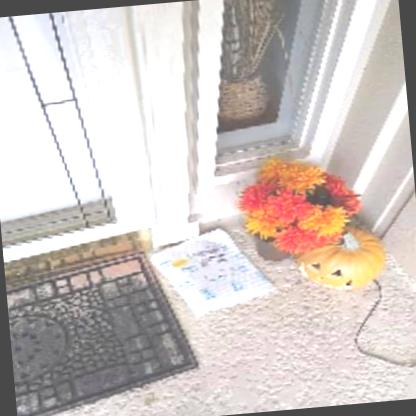plastic_bag: (150, 226, 279, 321)
